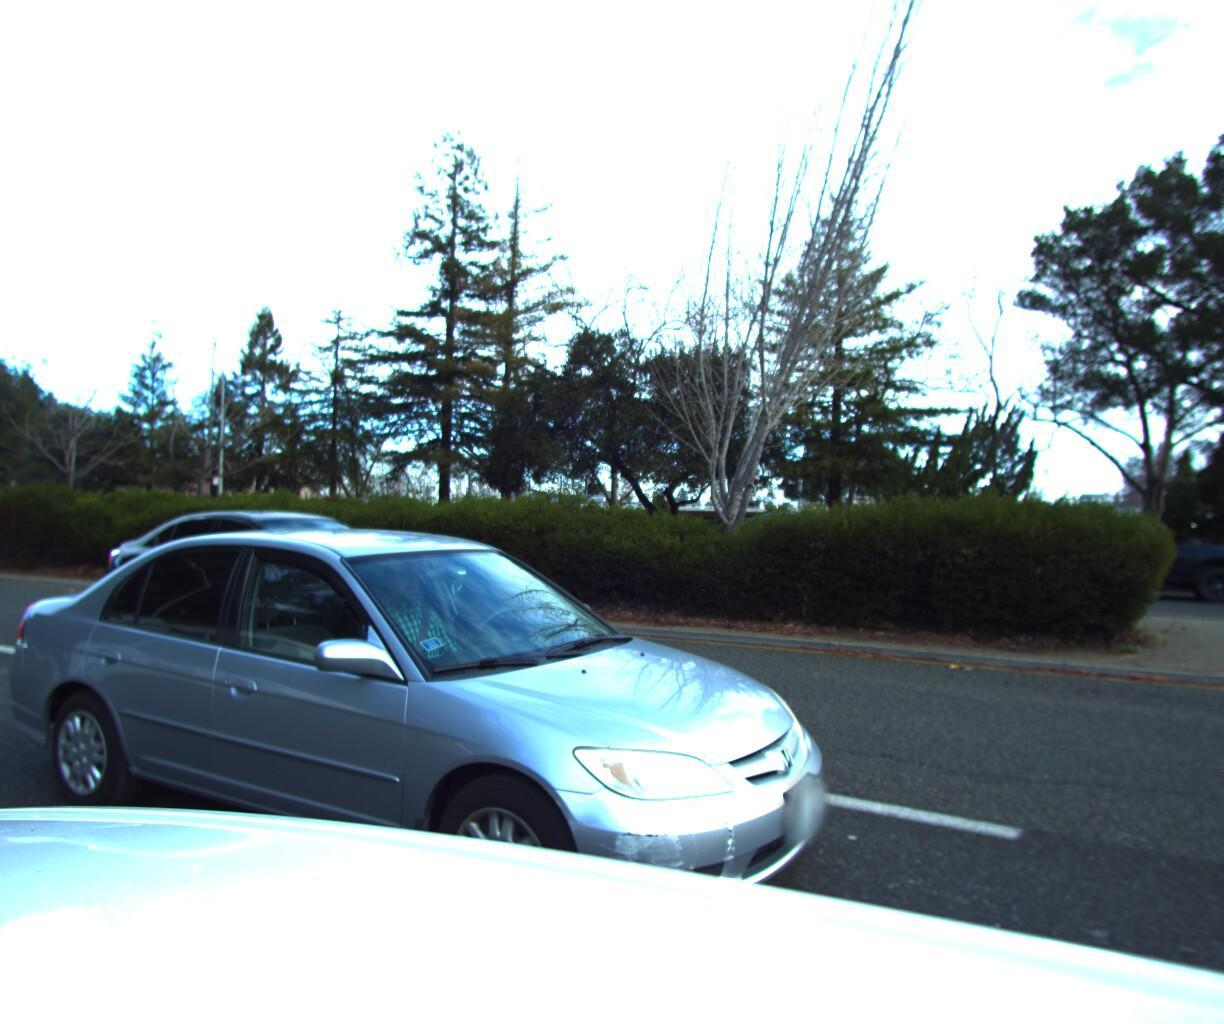car: (0, 530, 893, 1024), (86, 502, 480, 669), (1003, 511, 1224, 605)
